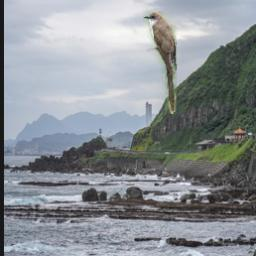Cuckoo: (143, 11, 177, 114)
